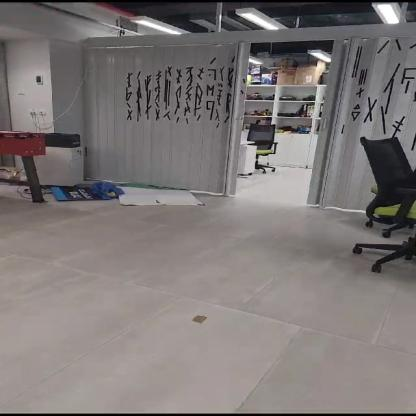open: (238, 46, 327, 200)
